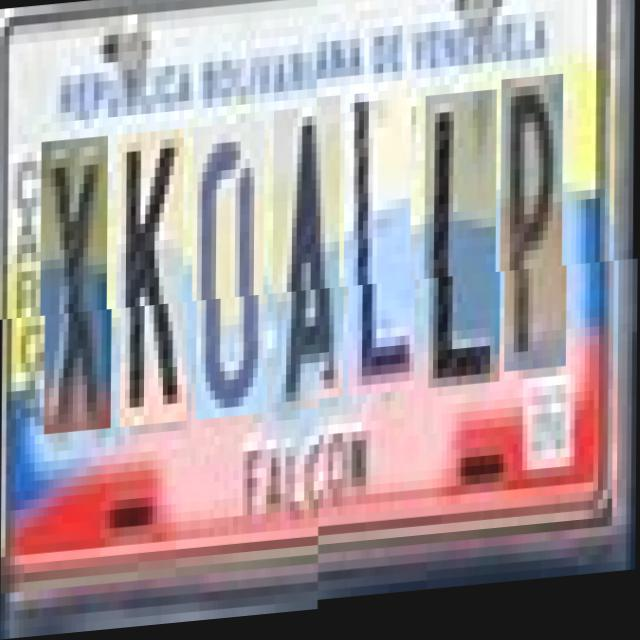0: (197, 125, 270, 424)
A: (278, 111, 346, 418)
K: (121, 132, 189, 430)
L: (429, 108, 502, 406), (348, 96, 416, 412)
P: (505, 94, 568, 391)
X: (45, 137, 113, 436)
